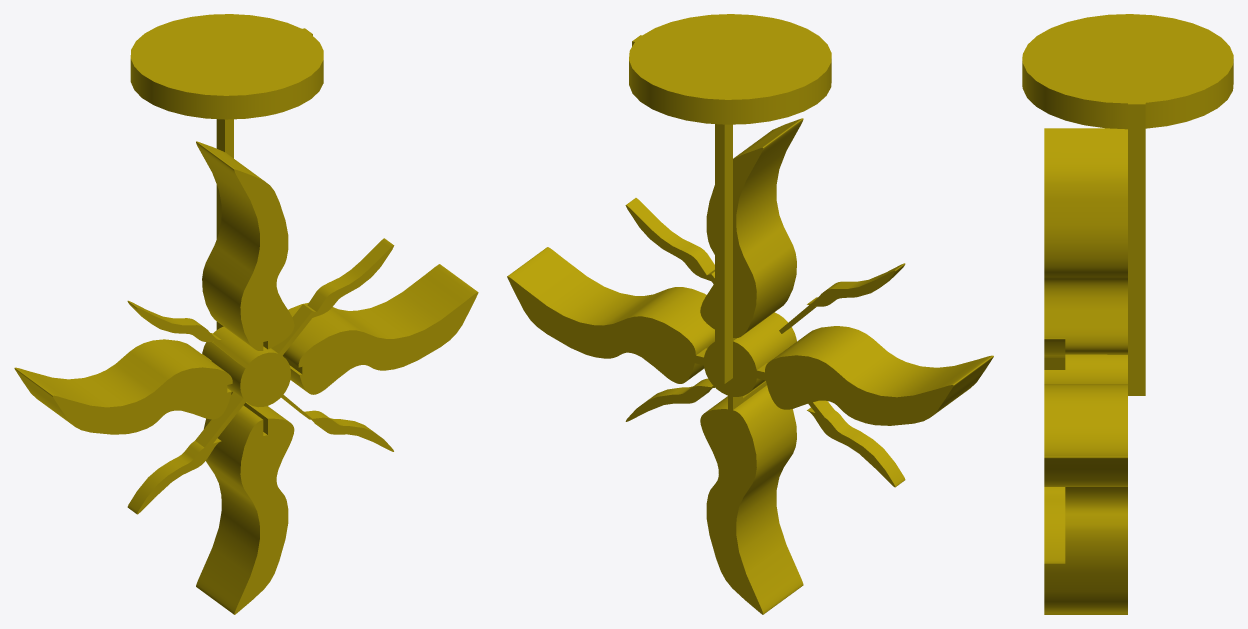
File: Sunburst.gltf
3 views of the same model, side by side, from view 1: azimuth 30°, elevation 25°; view 2: azimuth 150°, elevation 25°; view 3: azimuth 270°, elevation 25° (orthographic). The views are drawn at different scales.
Visible parts, largest first — view 1: Sunburst; view 2: Sunburst; view 3: Sunburst.
Boxes of the visible parts, x1,y1,x2,y2 form: Sunburst: (14,14,478,614); Sunburst: (507,14,993,614); Sunburst: (1022,14,1233,614).
Size of the model in its own units: 0.1627 by 0.1916 by 0.0641.
